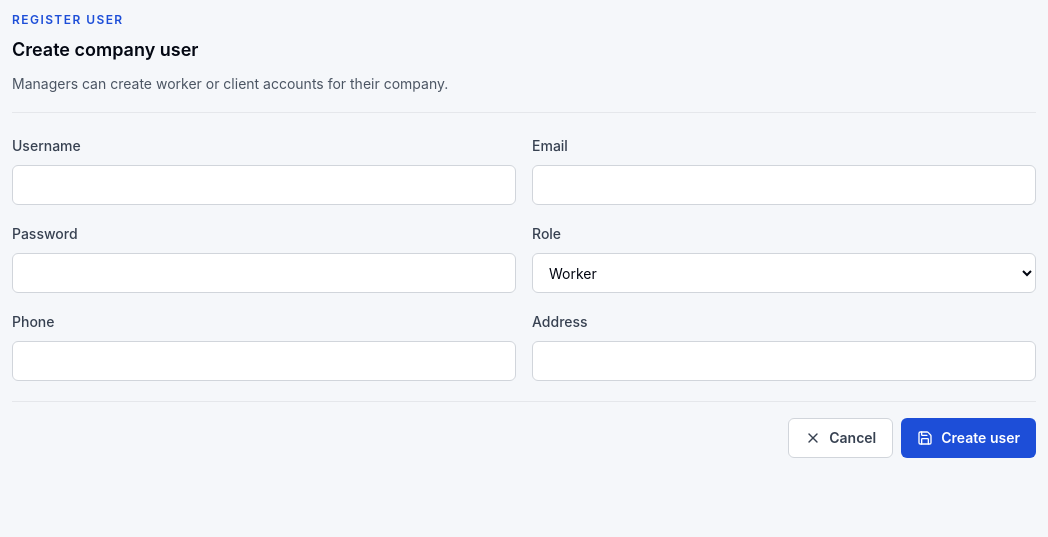
UserForm (create mode) › requires a password before submitting
Type "new_user" into the field labelled "Username" at (264, 185), box [12,165,516,205]
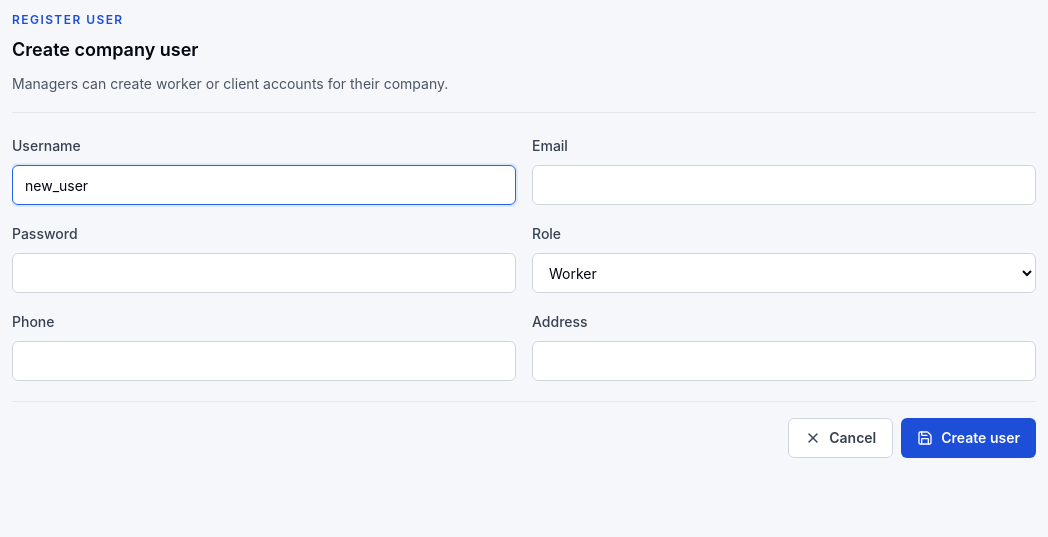
Type "new@example.com" into the field labelled "Email" at (784, 185), box [532,165,1036,205]
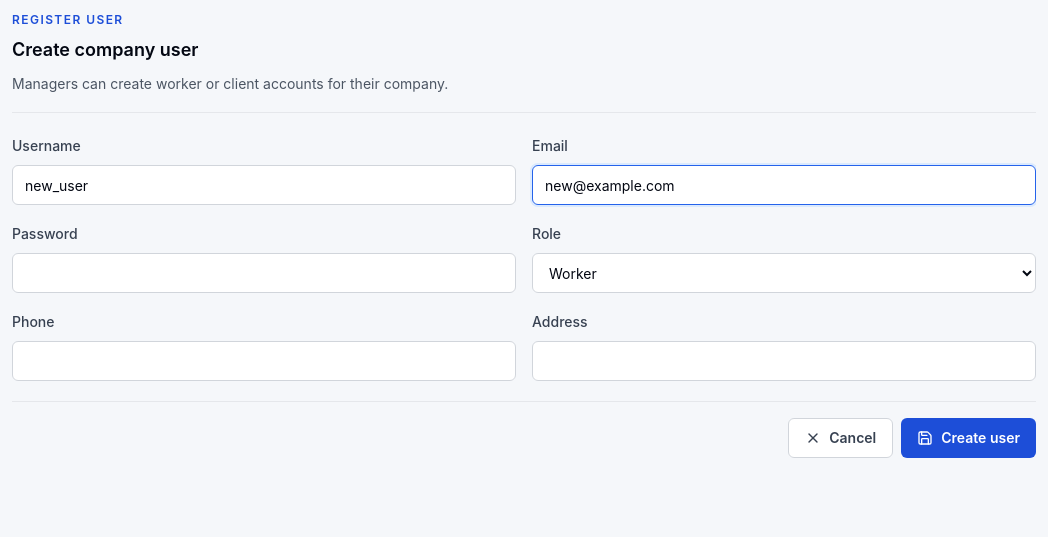
# Bypass native required validation to reach the form's own validation message.
Submit the form named "Create user"
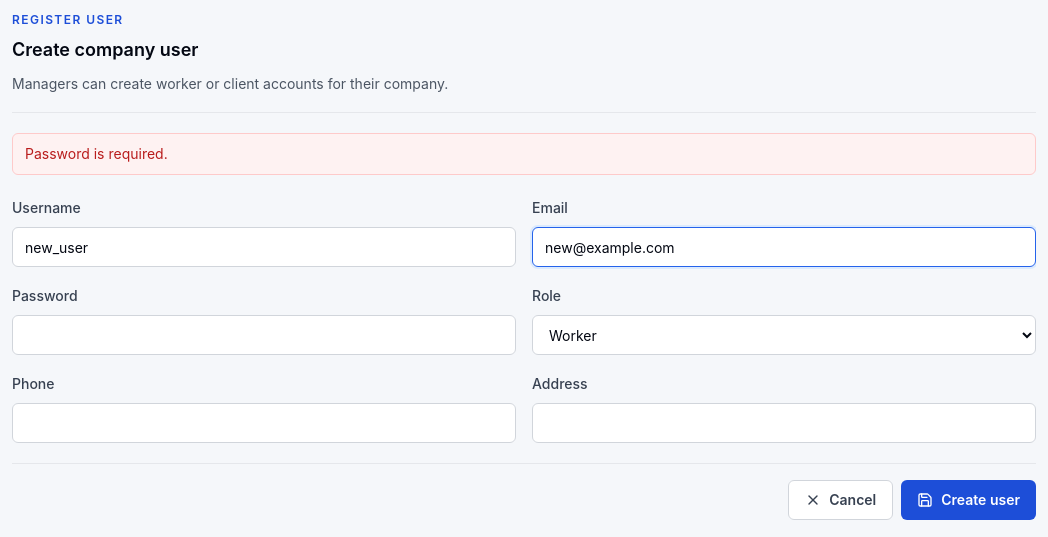
expect the text "Password is required." is shown: met, box [12,133,1036,175]
